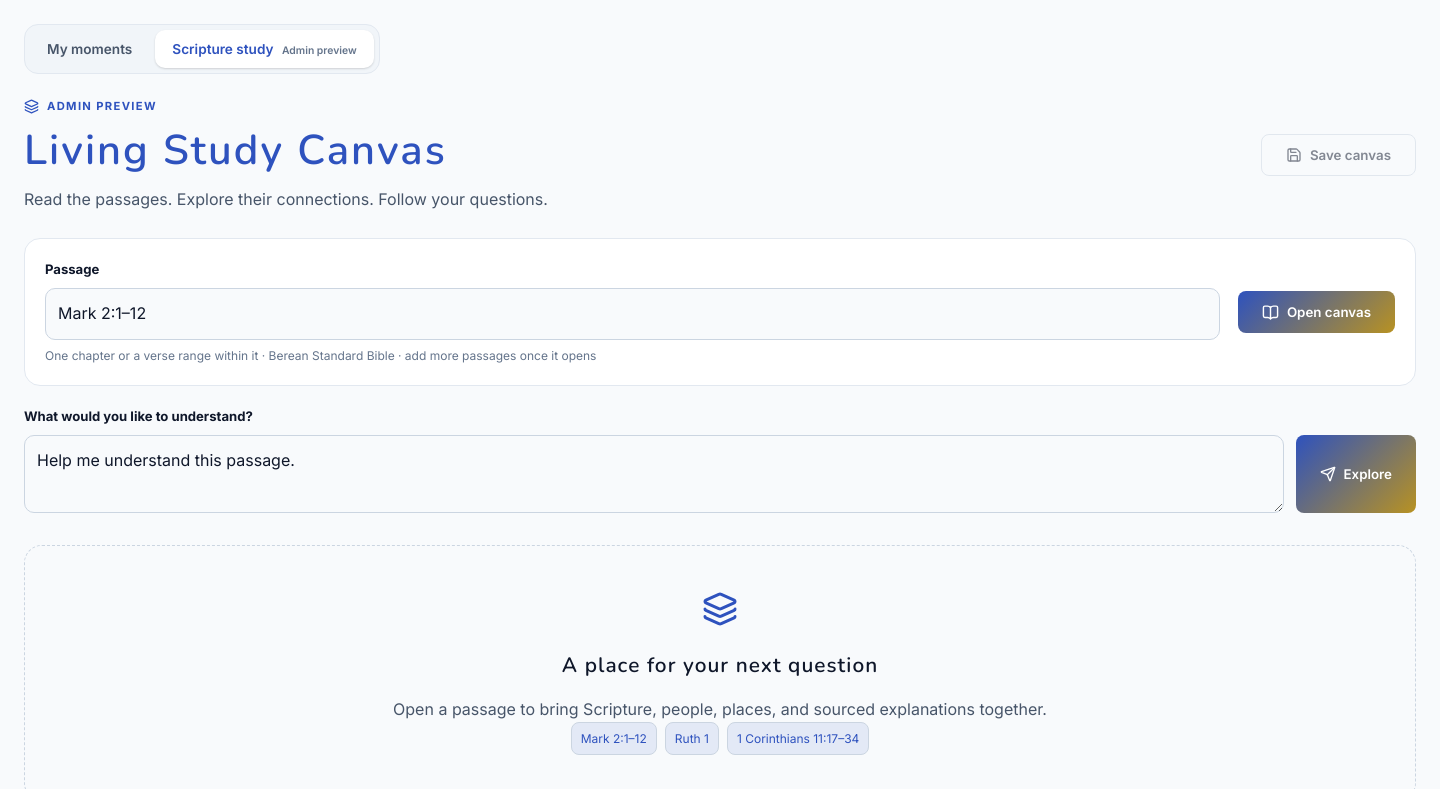
Living Study Canvas › sends no model choice and shows no picker to an admin
Click the button "Open canvas" at (1316, 312), box [1238,291,1395,333]
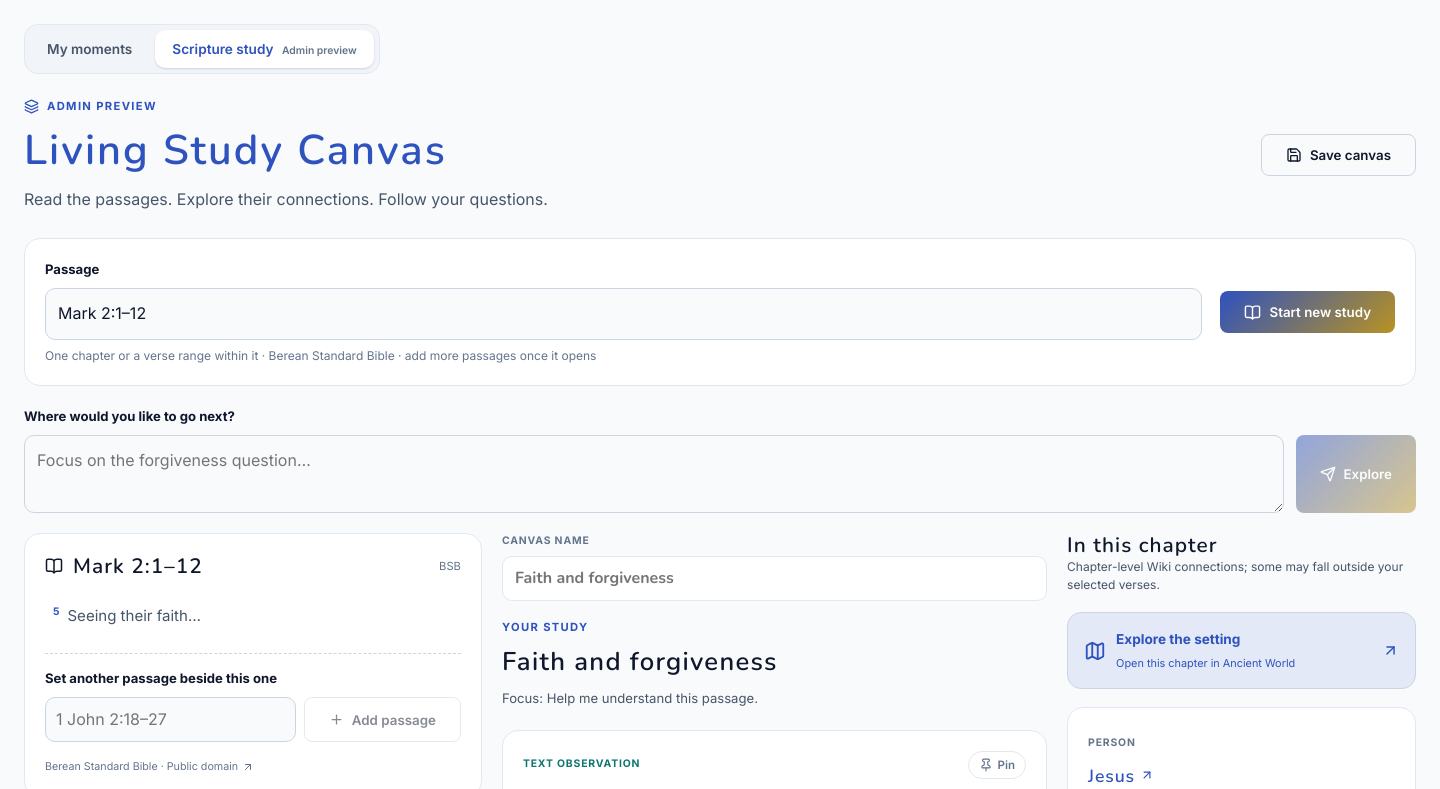
Expected: the heading "Faith and forgiveness" is shown, [502,644,778,679]
